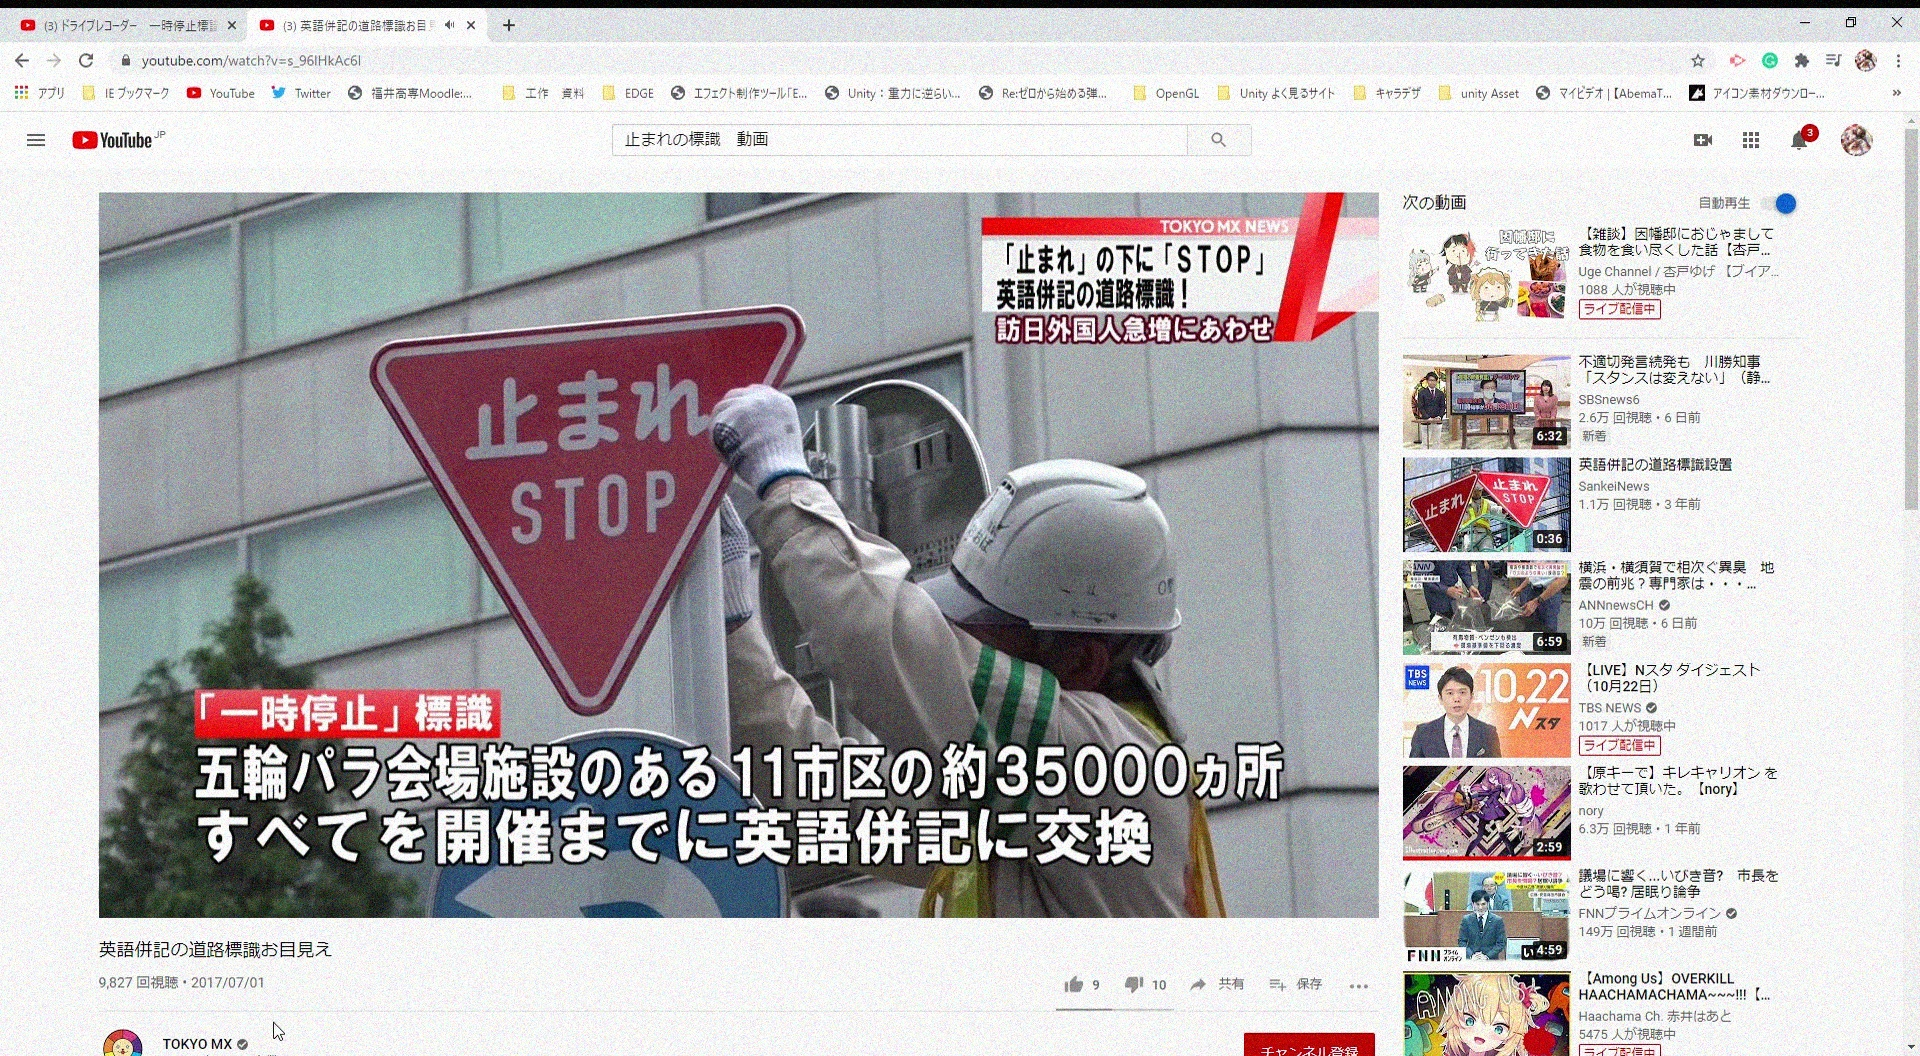Regulatory_sign_triangle: (347, 287, 827, 735)
